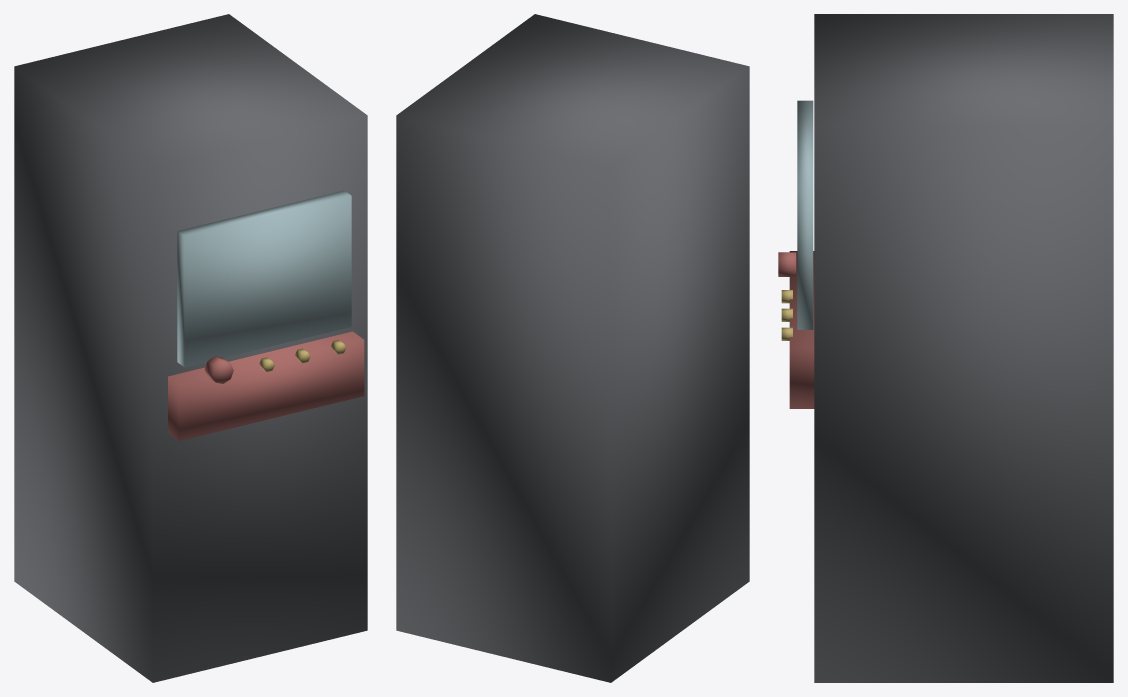
File: cocktail_arcade__deep.glb
The picture shows the model from 3 angles, left to right: view 1: azimuth 30°, elevation 25°; view 2: azimuth 150°, elevation 25°; view 3: azimuth 270°, elevation 25°; orthographic projection. The views are drawn at different scales.
Parts seen in each view (by area): view 1: world; view 2: world; view 3: world.
Boxes of the visible parts, <box> form: world: <box>14,14,367,682</box>; world: <box>396,14,749,682</box>; world: <box>778,14,1113,682</box>.
Size of the model in its own units: 0.72 by 1.65 by 0.9028.
